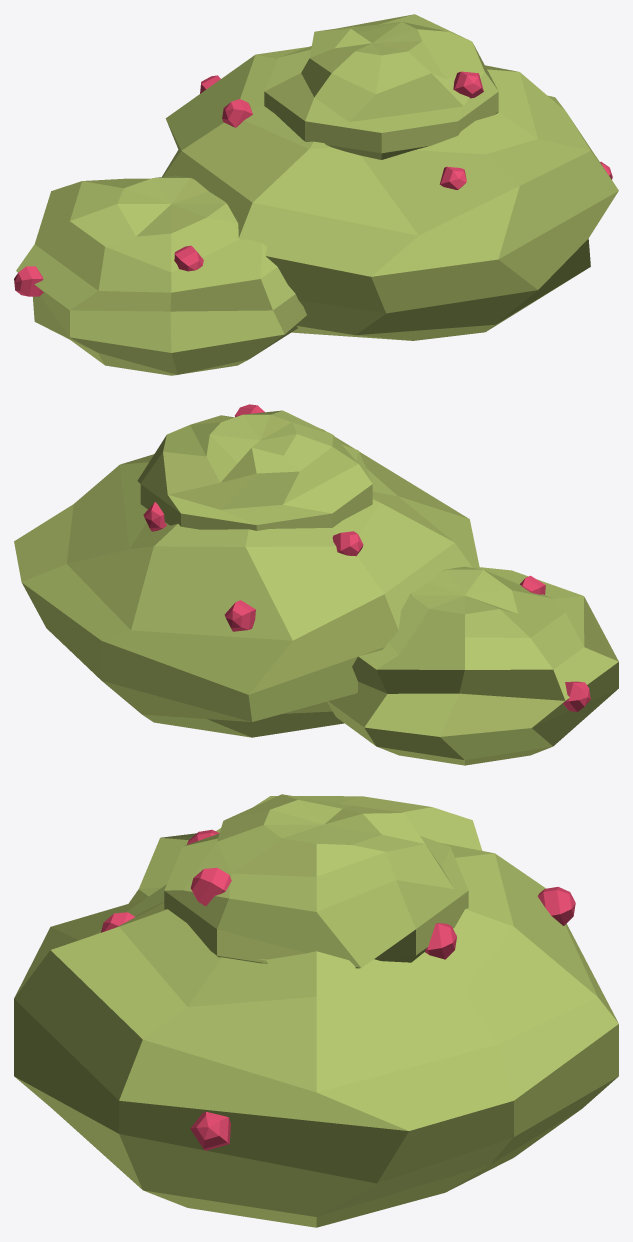
Rendered from Lime_Bush.fbx.
3 renders of one model, top to bottom at view 1: azimuth 30°, elevation 25°; view 2: azimuth 150°, elevation 25°; view 3: azimuth 270°, elevation 25°, orthographic. The views are drawn at different scales.
Visible parts, largest first — view 1: pSphere8, pSphere9, pSphere10, pSphere18, pSphere15, pSphere13, pSphere17, pSphere14; view 2: pSphere8, pSphere9, pSphere10, pSphere11, pSphere18, pSphere13; view 3: pSphere8, pSphere10, pSphere9, pSphere16, pSphere15, pSphere11, pSphere12.
Part boxes in pixels (<box>): pSphere8: <box>162,47,618,340</box>; pSphere9: <box>16,175,306,375</box>; pSphere10: <box>264,14,498,159</box>; pSphere18: <box>14,266,43,296</box>; pSphere15: <box>453,71,483,98</box>; pSphere13: <box>222,99,252,127</box>; pSphere17: <box>174,245,203,271</box>; pSphere14: <box>439,166,466,189</box>; pSphere8: <box>14,429,479,737</box>; pSphere9: <box>327,566,618,765</box>; pSphere10: <box>137,410,372,530</box>; pSphere11: <box>224,600,255,631</box>; pSphere18: <box>563,681,590,711</box>; pSphere13: <box>332,531,363,556</box>; pSphere8: <box>14,843,618,1227</box>; pSphere10: <box>164,794,468,968</box>; pSphere9: <box>128,796,482,903</box>; pSphere16: <box>190,1111,230,1150</box>; pSphere15: <box>191,867,231,906</box>; pSphere11: <box>538,886,575,925</box>; pSphere12: <box>425,923,456,959</box>.
Size of the model in its own units: 3.47 by 1.61 by 2.5.
